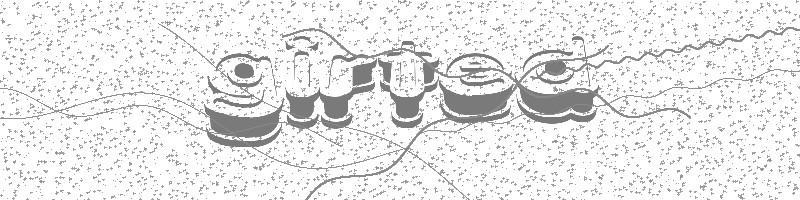d: (517, 35, 598, 127)
e: (438, 48, 513, 125)
g: (203, 49, 286, 147)
i: (285, 32, 321, 131)
r: (320, 50, 379, 132)
t: (377, 38, 440, 131)
